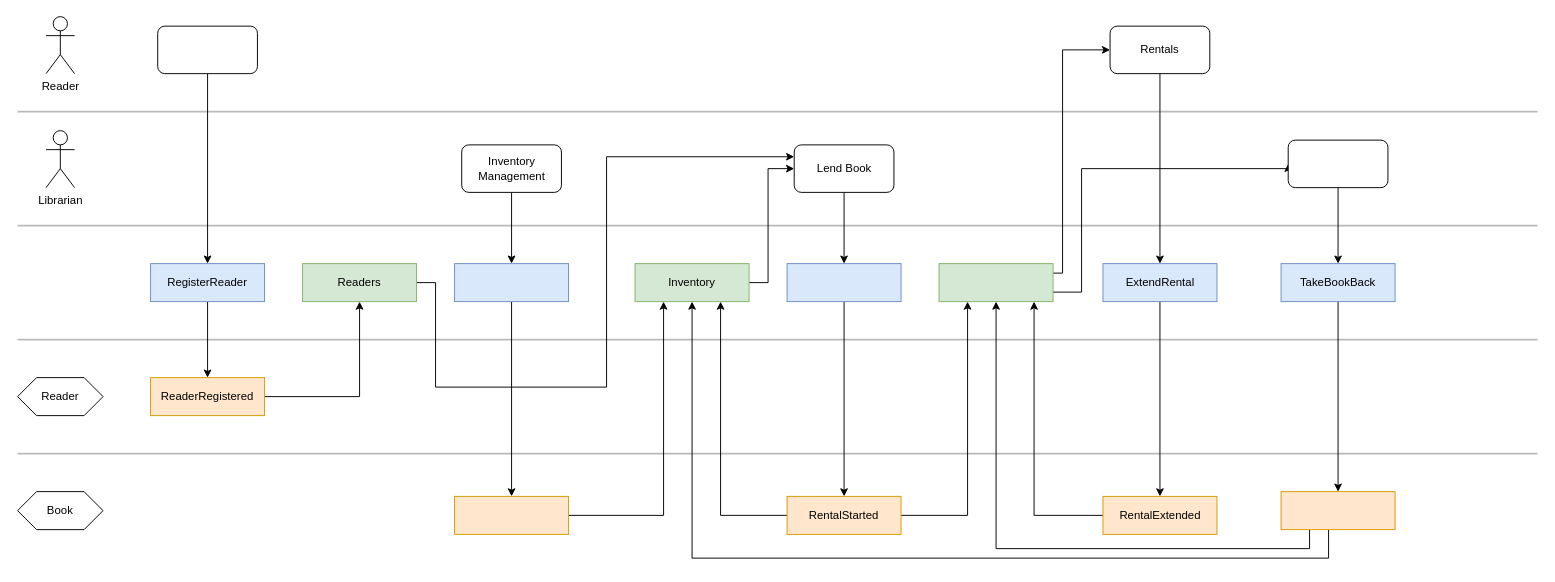
The diagram is 1555 pixels wide and 582 high, and some of its shapes have lost their labels. The centre of each missing label's shape, as x and y in pixels:
"Active Rentals" belongs at point 995,282.
"AddBook" belongs at point 511,282.
"BookAdded" belongs at point 511,514.
"BookTakenBack" belongs at point 1337,510.
"Register Reader" belongs at point 207,49.
"Rental Overview" belongs at point 1337,163.
"StartRental" belongs at point 843,282.
